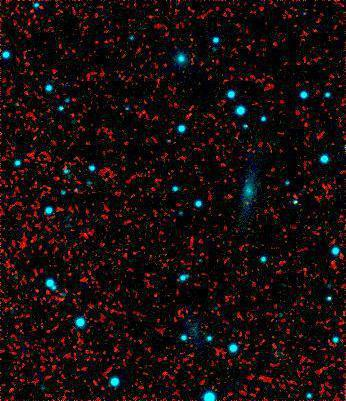star: (233, 166, 263, 196)
